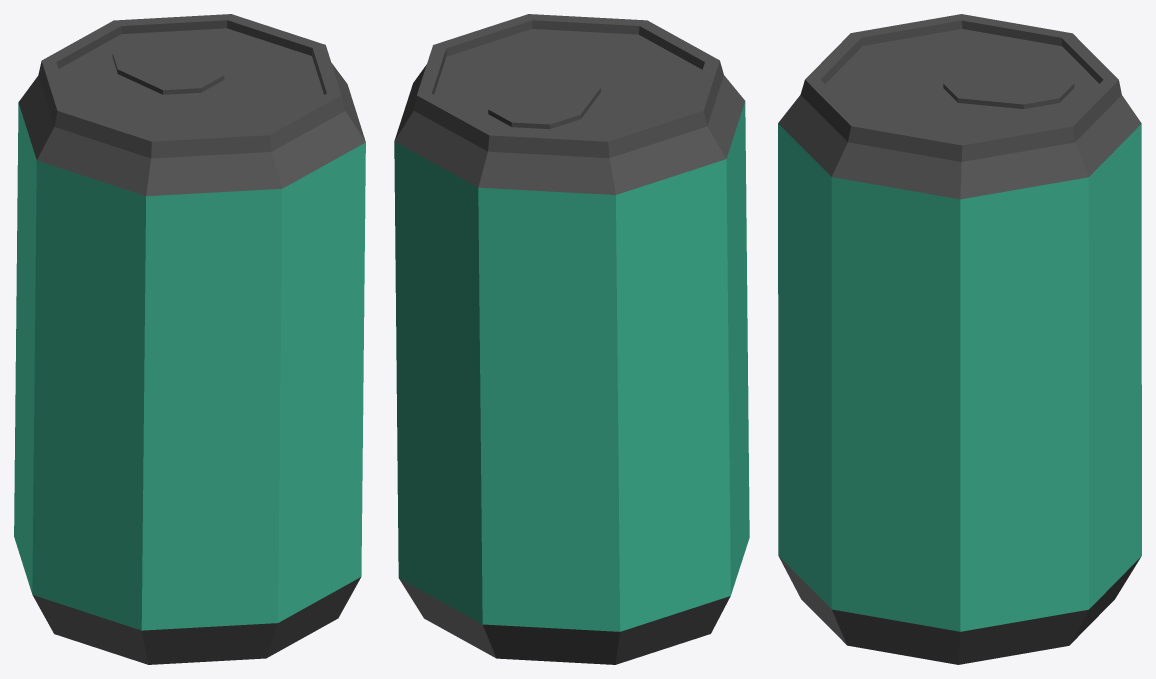
File: Dåse_Blå.fbx
3 views of the same model, side by side, from view 1: azimuth 30°, elevation 25°; view 2: azimuth 150°, elevation 25°; view 3: azimuth 270°, elevation 25° (orthographic).
Parts seen in each view (by area): view 1: Dåse; view 2: Dåse; view 3: Dåse.
Boxes of the visible parts, box(x1,y1,x2,y2) form: Dåse: box(14, 14, 365, 664); Dåse: box(394, 14, 749, 664); Dåse: box(778, 14, 1141, 664).
Size of the model in its own units: 13.61 by 21.46 by 13.55.
